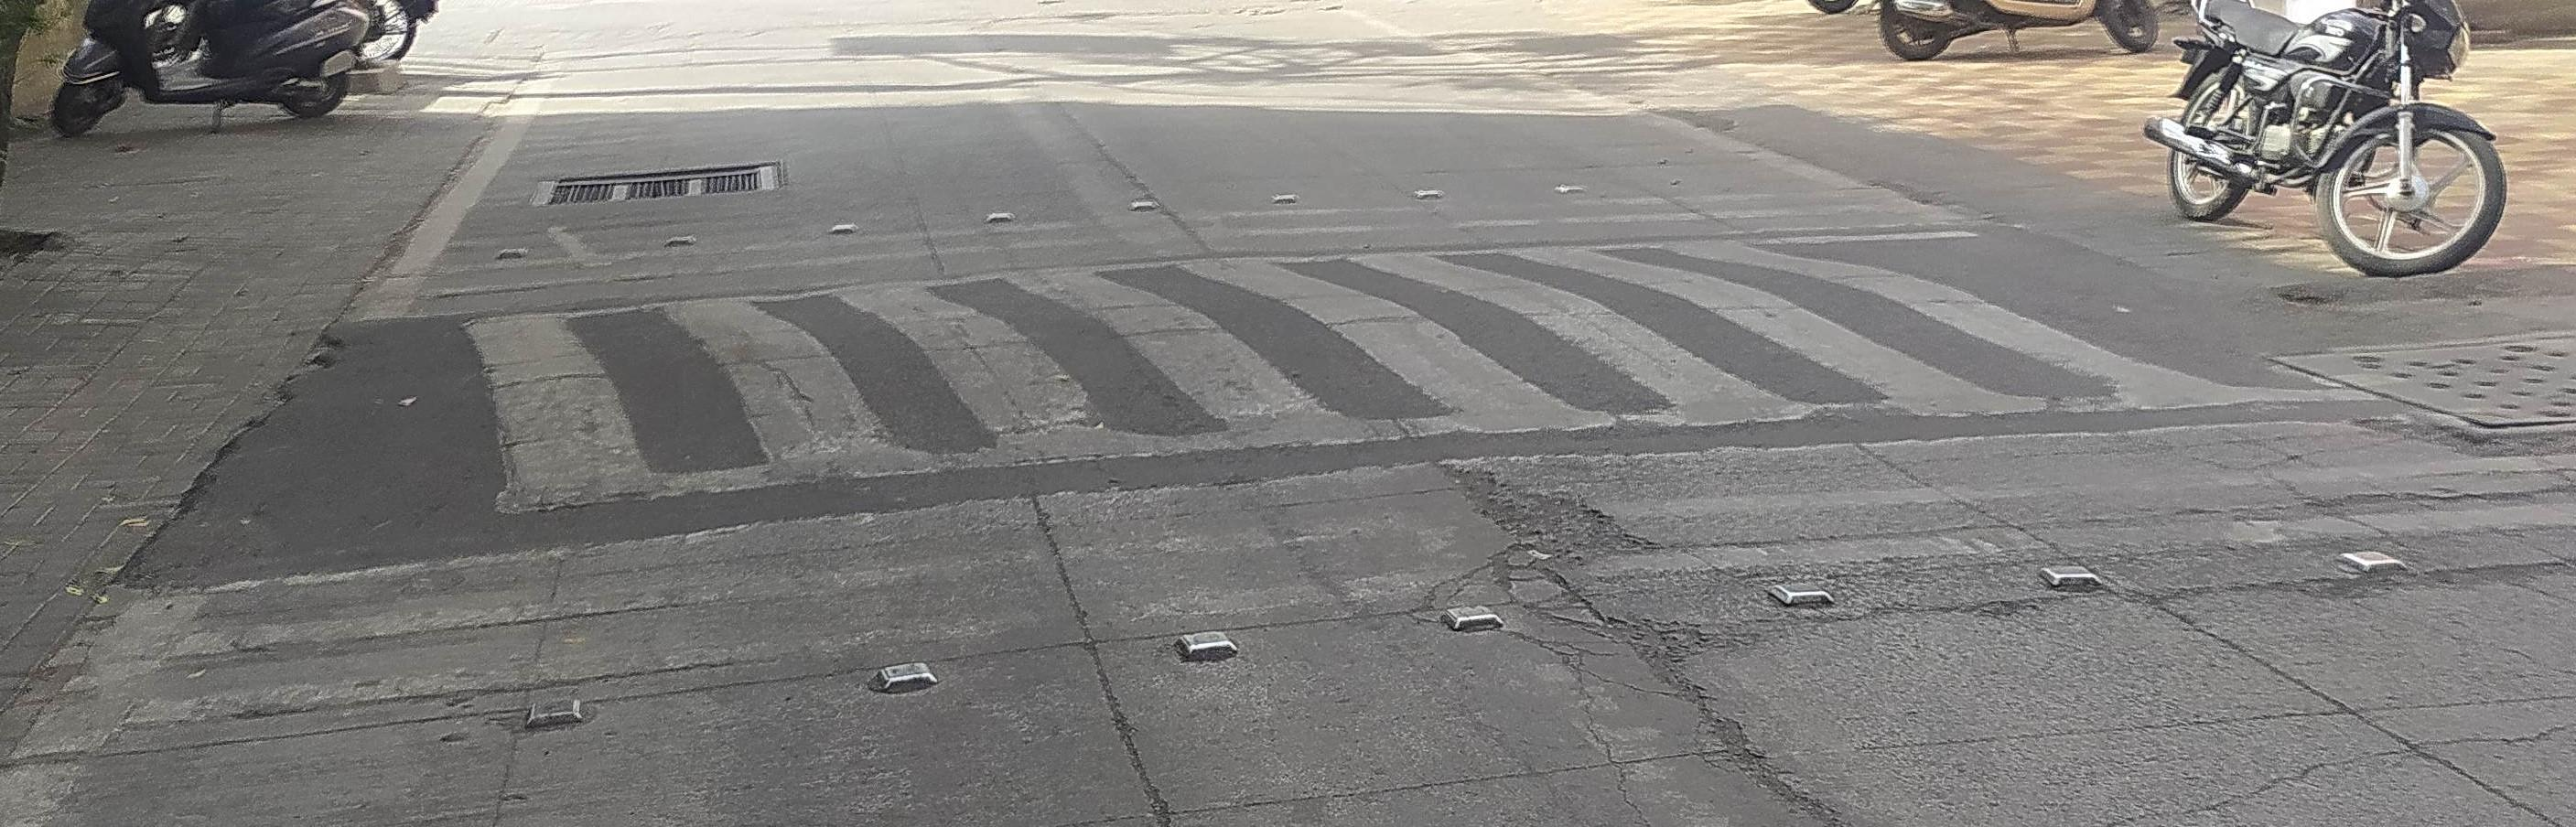speed-bump: (181, 220, 2252, 584)
